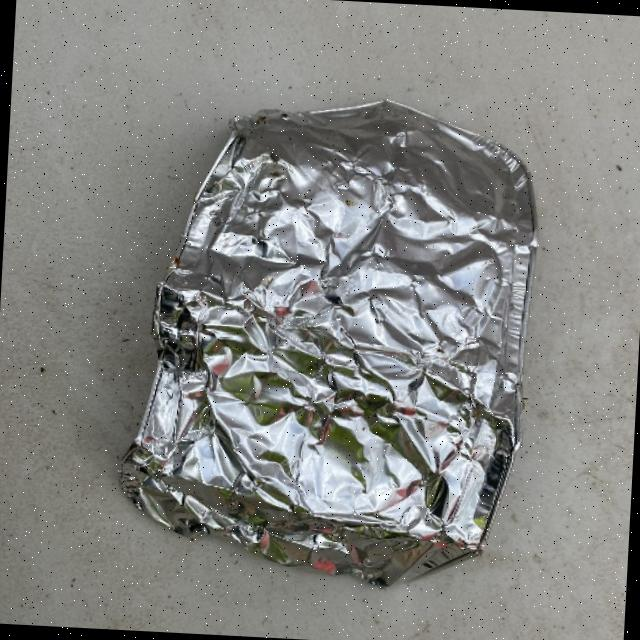metal: (113, 86, 544, 594)
